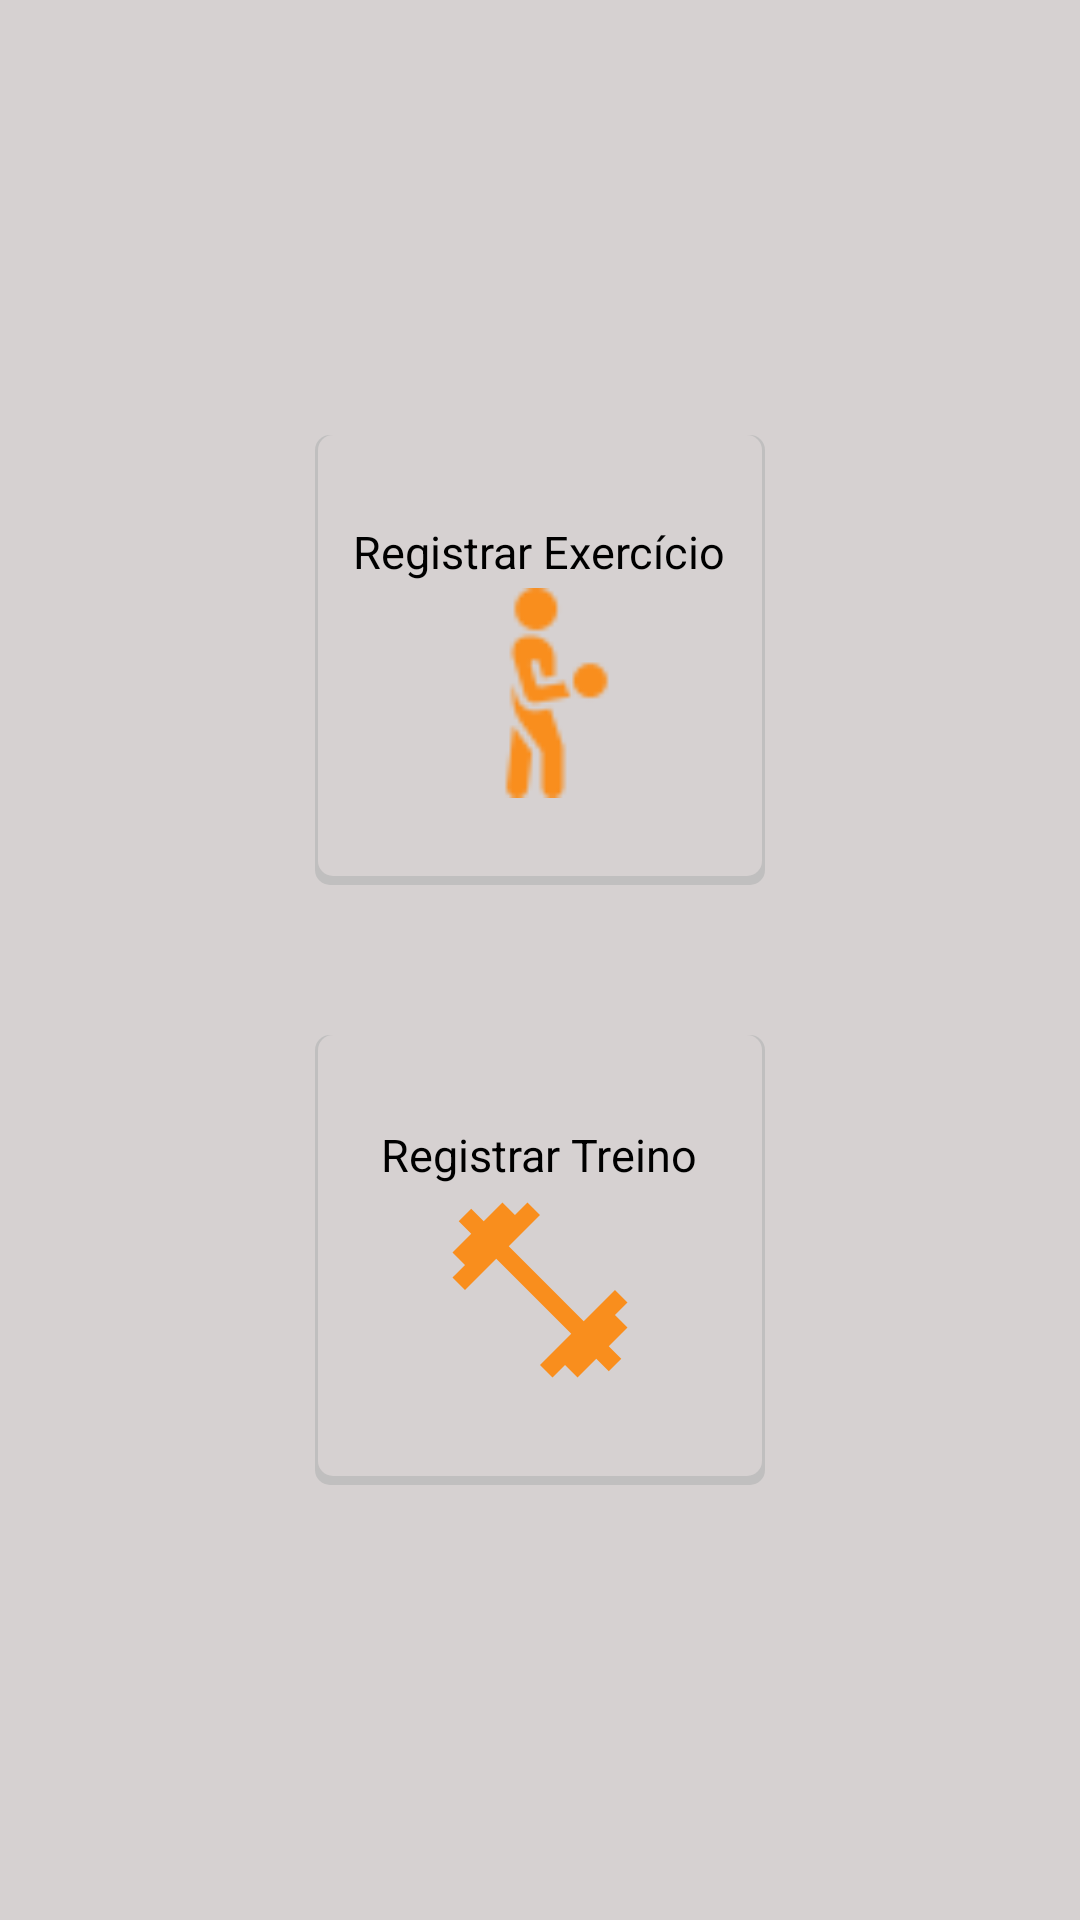

Where icons sit on this 1080 x 1920 app screen, as (x1, y1, x2, y2):
fitness: (452, 1202, 628, 1378)
